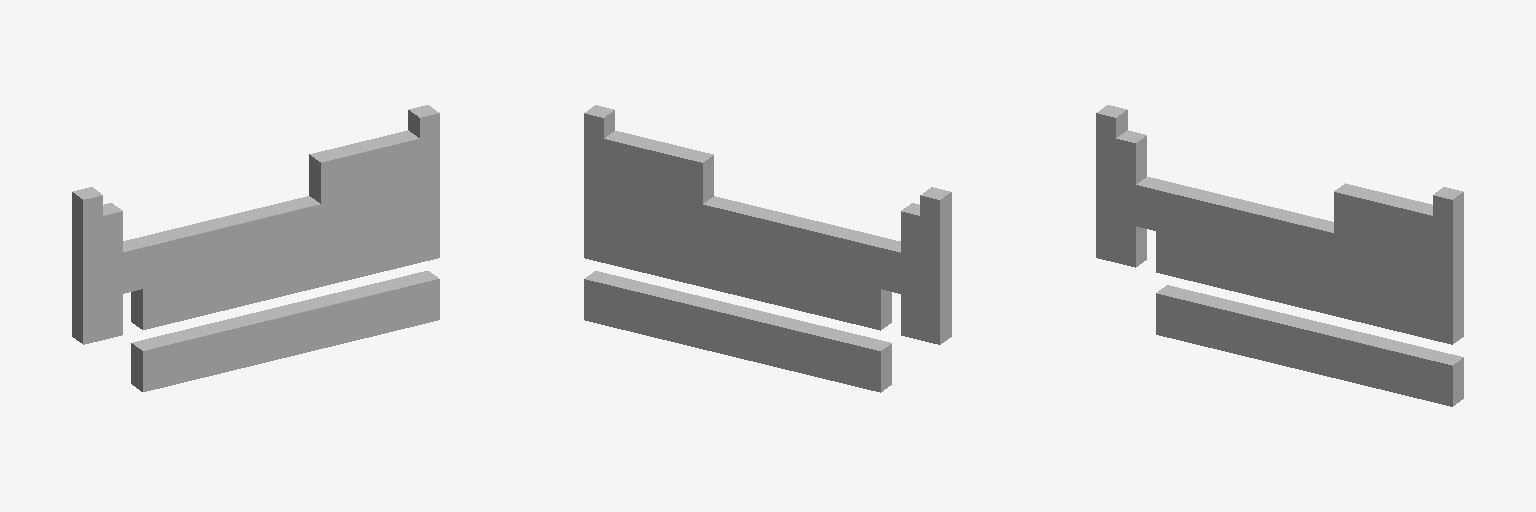
Rendered from tabla periodica.obj.
3 views of the same model, side by side, from view 1: azimuth 30°, elevation 25°; view 2: azimuth 150°, elevation 25°; view 3: azimuth 330°, elevation 25° (orthographic).
Parts seen in each view (by area): view 1: H.001_Cube.112, K.001_Cube.115, F.001_Cube.217, O.001_Cube.211, Li.001_Cube.113, Na.001_Cube.114, Ce.001_Cube.232, Pm.001_Cube.238, Cs.001_Cube.117, C.001_Cube.199, N.001_Cube.205, Rb.001_Cube.116 (+3 smaller); view 2: H_Cube.022, He_Cube.105, Cs_Cube.029, Na_Cube.026, Rb_Cube.028, K_Cube.027, Fr_Cube.030, Li_Cube.025, C_Cube.081, F_Cube.099, V_Cube.043, N_Cube.087 (+13 smaller); view 3: Lu.001_Cube.258, He.001_Cube.223, Be.001_Cube.119, H.001_Cube.112, Lr.001_Cube.259, Ar.001_Cube.225, Rn.001_Cube.228, Xe.001_Cube.227, Kr.001_Cube.226, Ra.001_Cube.128, Ne.001_Cube.224, Mg.001_Cube.120 (+3 smaller).
Boxes of the visible parts, <box> form: H.001_Cube.112: <box>72,187,102,220</box>; K.001_Cube.115: <box>72,254,102,282</box>; F.001_Cube.217: <box>389,130,419,163</box>; O.001_Cube.211: <box>375,135,399,168</box>; Li.001_Cube.113: <box>72,213,102,240</box>; Na.001_Cube.114: <box>72,233,102,261</box>; Ce.001_Cube.232: <box>152,333,181,366</box>; Pm.001_Cube.238: <box>211,319,241,351</box>; Cs.001_Cube.117: <box>72,295,102,323</box>; C.001_Cube.199: <box>335,145,359,177</box>; N.001_Cube.205: <box>350,143,379,173</box>; Rb.001_Cube.116: <box>72,275,102,303</box>; H_Cube.022: <box>920,188,951,220</box>; He_Cube.105: <box>584,108,613,138</box>; Cs_Cube.029: <box>920,295,951,323</box>; Na_Cube.026: <box>920,233,951,261</box>; Rb_Cube.028: <box>920,275,951,303</box>; K_Cube.027: <box>920,254,951,282</box>; Fr_Cube.030: <box>920,316,951,344</box>; Li_Cube.025: <box>920,213,951,240</box>; C_Cube.081: <box>663,145,692,178</box>; F_Cube.099: <box>604,131,634,163</box>; V_Cube.043: <box>841,232,871,263</box>; N_Cube.087: <box>643,140,673,173</box>; Lu.001_Cube.258: <box>1433,353,1463,385</box>; He.001_Cube.223: <box>1433,187,1463,220</box>; Be.001_Cube.119: <box>1116,130,1146,163</box>; H.001_Cube.112: <box>1096,105,1127,137</box>; Lr.001_Cube.259: <box>1433,378,1463,406</box>; Ar.001_Cube.225: <box>1433,233,1463,261</box>; Rn.001_Cube.228: <box>1433,295,1463,323</box>; Xe.001_Cube.227: <box>1433,275,1463,303</box>; Kr.001_Cube.226: <box>1433,254,1463,282</box>; Ra.001_Cube.128: <box>1116,239,1146,267</box>; Ne.001_Cube.224: <box>1433,213,1463,240</box>; Mg.001_Cube.120: <box>1116,156,1146,184</box>.
Size of the model in its own units: 1.8 by 1 by 0.1028.